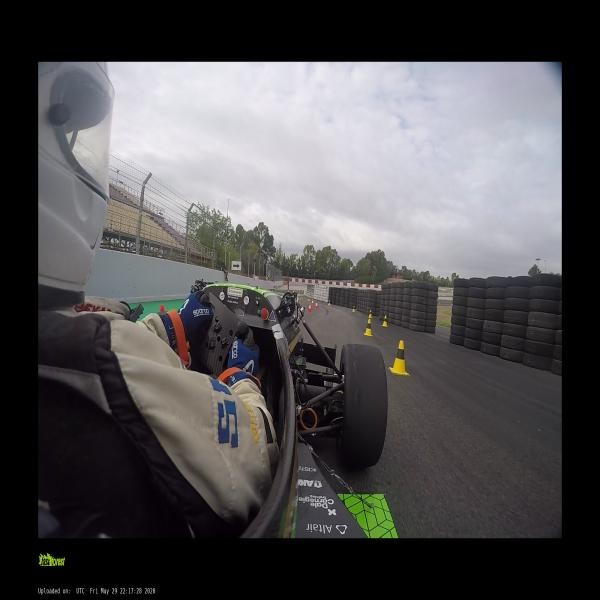orange_cone: (306, 303, 311, 315), (314, 302, 318, 310), (310, 299, 314, 306), (160, 306, 164, 312)
yellow_cone: (388, 340, 409, 376), (363, 319, 372, 338), (381, 316, 388, 326), (367, 310, 372, 318), (327, 300, 330, 306), (352, 306, 355, 312), (308, 296, 310, 301)
